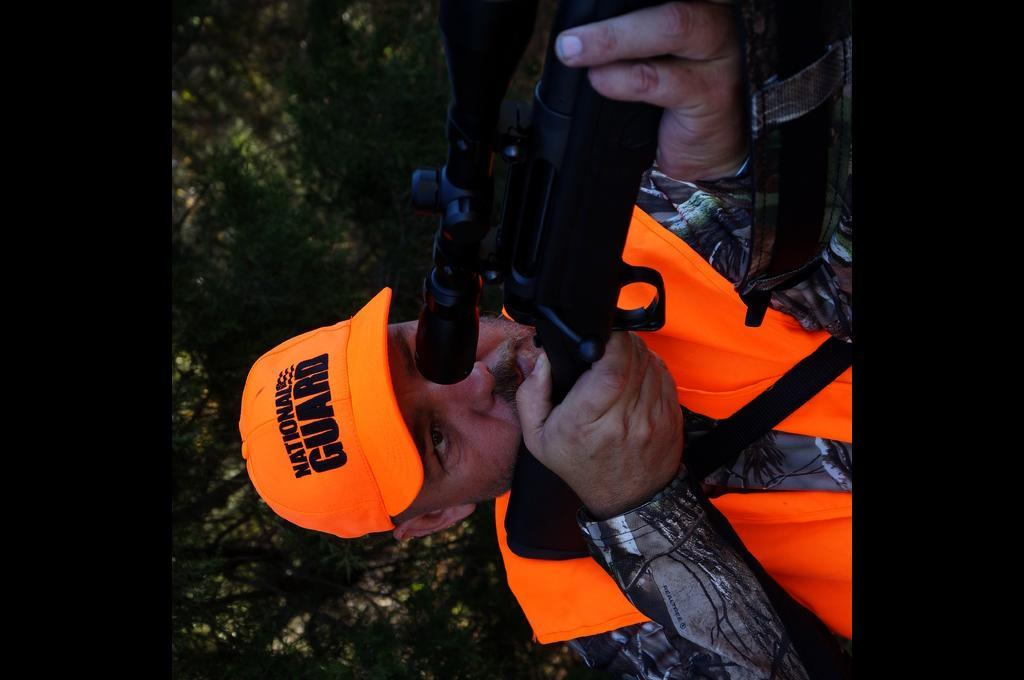gun: (413, 0, 722, 565)
